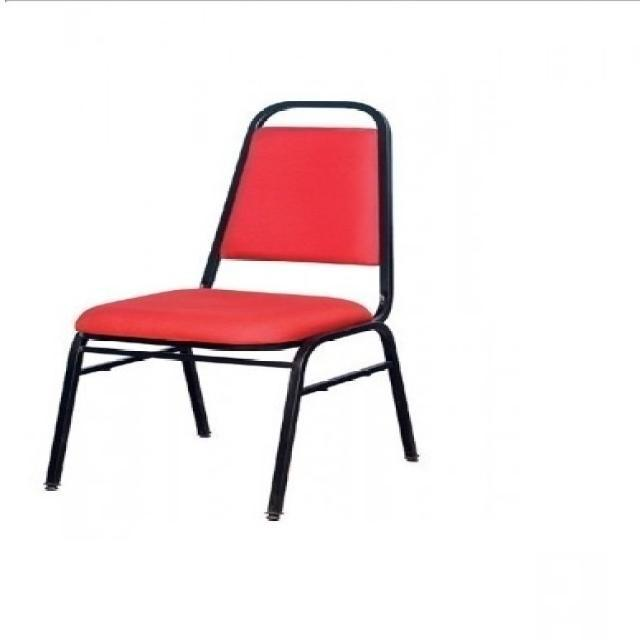chair: (39, 98, 433, 524)
